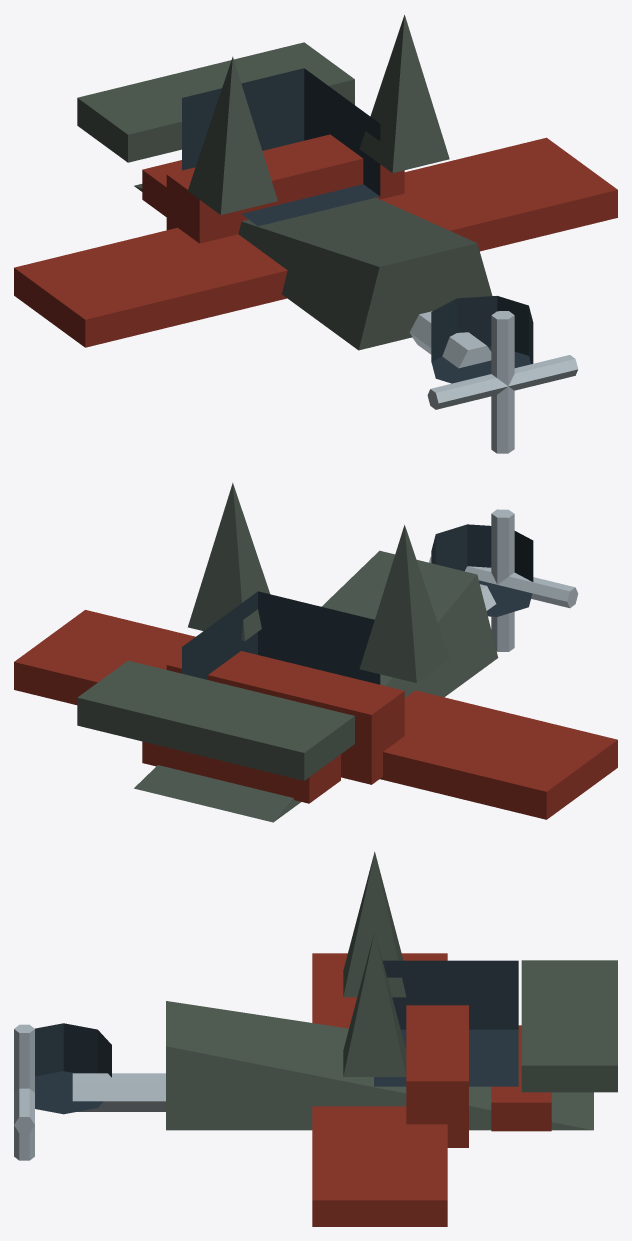
File: air.obj
The picture shows the model from 3 angles, top to bottom: view 1: azimuth 30°, elevation 25°; view 2: azimuth 150°, elevation 25°; view 3: azimuth 270°, elevation 25°; orthographic projection. The views are drawn at different scales.
Visible parts, largest first — view 1: air; view 2: air; view 3: air.
Part boxes in pixels (x1,y1,x2,y2): air: (14, 15, 617, 453); air: (14, 482, 617, 822); air: (14, 851, 617, 1226).
Bounding box in the file's own units: 2.23 × 1.12 × 2.31.
